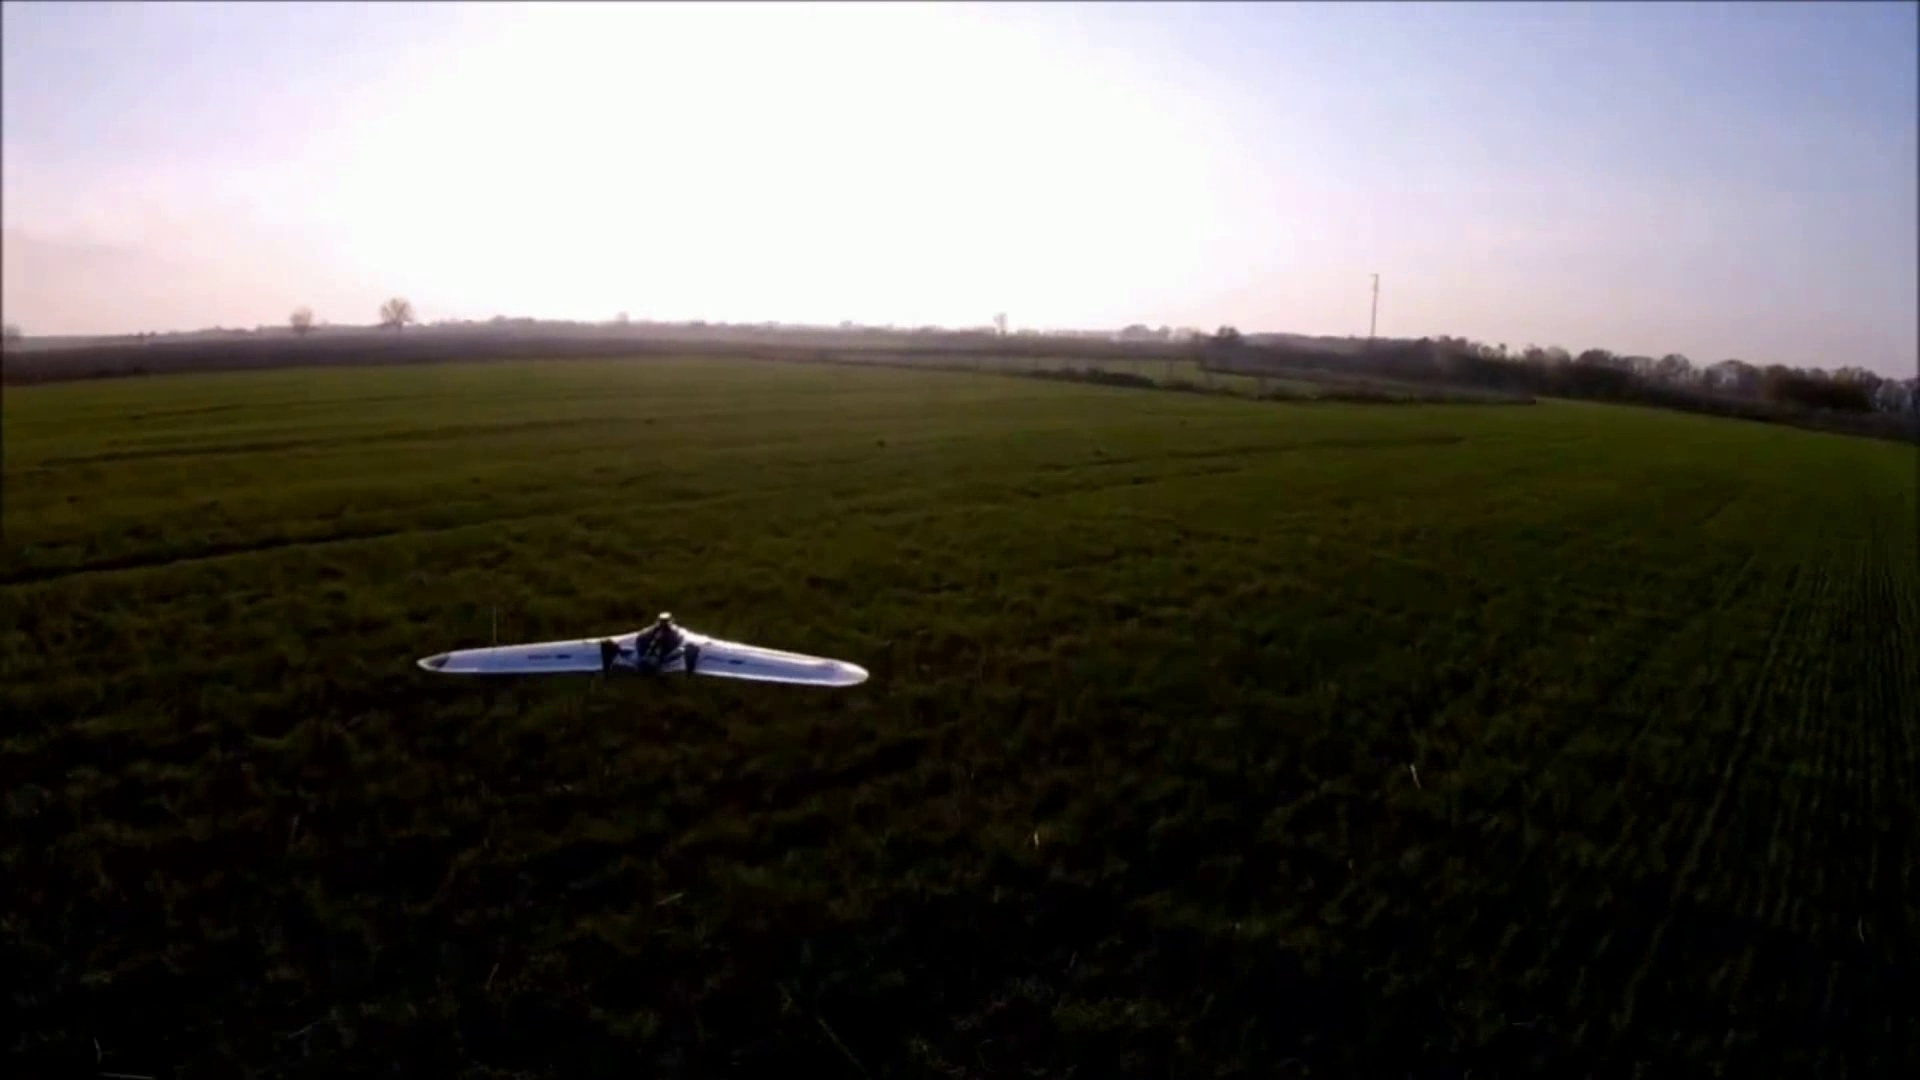airplane: (415, 611, 872, 688)
